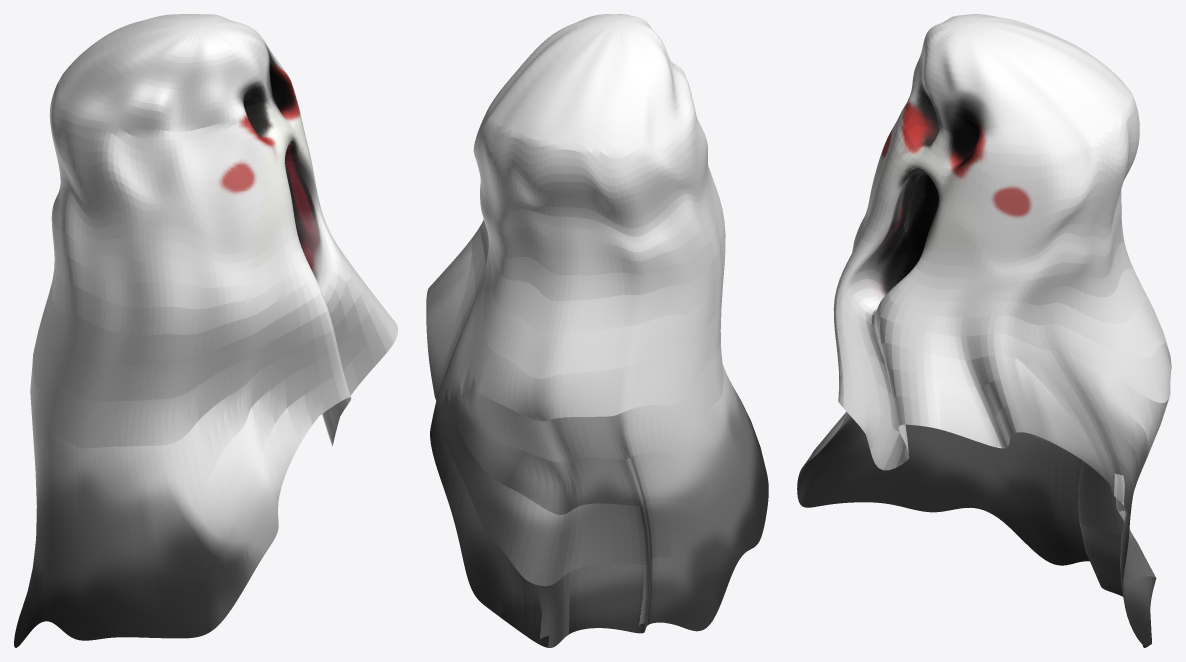
File: ghost_000018.obj
The picture shows the model from 3 angles, left to right: view 1: azimuth 30°, elevation 25°; view 2: azimuth 150°, elevation 25°; view 3: azimuth 270°, elevation 25°; orthographic projection. The views are drawn at different scales.
Parts seen in each view (by area): view 1: 球体; view 2: 球体; view 3: 球体.
Part boxes in pixels (left/top/right/bottom): 球体: left=14, top=14, right=397, bottom=647; 球体: left=426, top=14, right=768, bottom=647; 球体: left=797, top=14, right=1171, bottom=647.
Size of the model in its own units: 8.62 by 15.89 by 8.61.
Materials: 1 (1 with a texture image).
